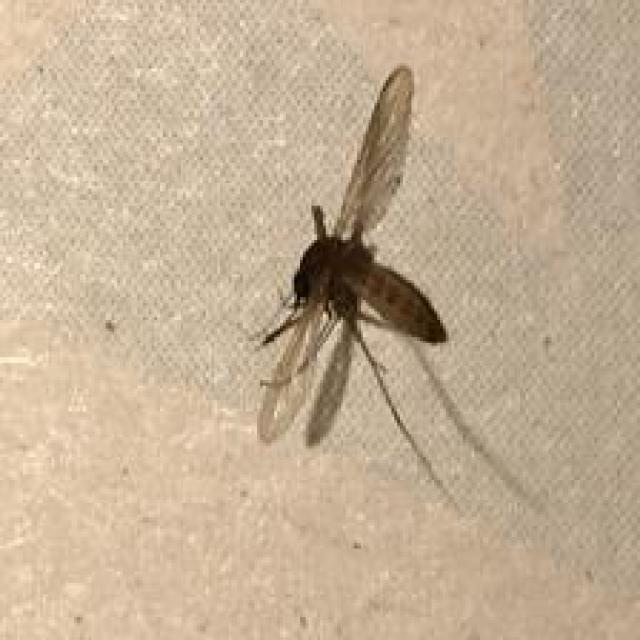Culex: (252, 62, 548, 527)
